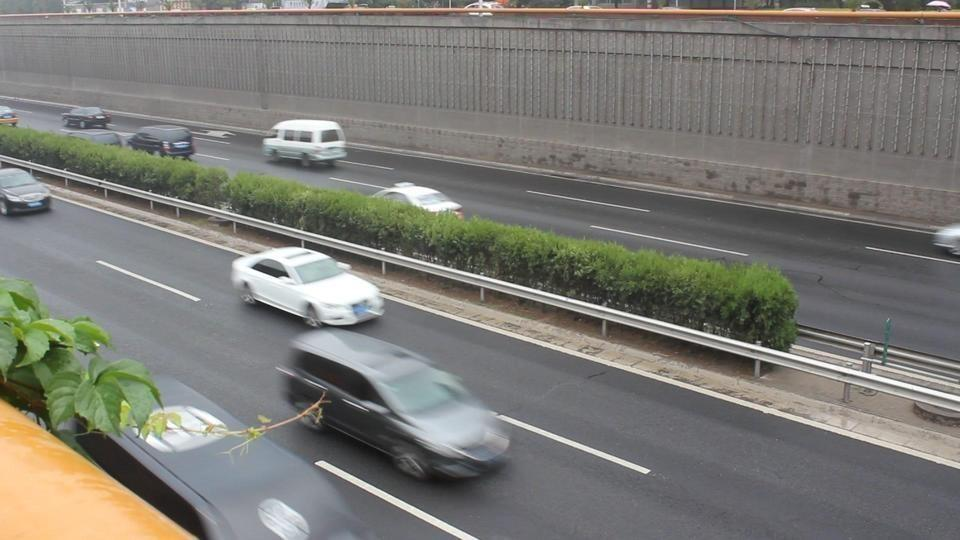car: (69, 405, 378, 536), (278, 326, 511, 483), (230, 246, 386, 329), (261, 118, 348, 168), (369, 180, 465, 217), (0, 166, 52, 215), (126, 125, 196, 158), (60, 106, 112, 129), (931, 222, 960, 257), (0, 106, 18, 125)
